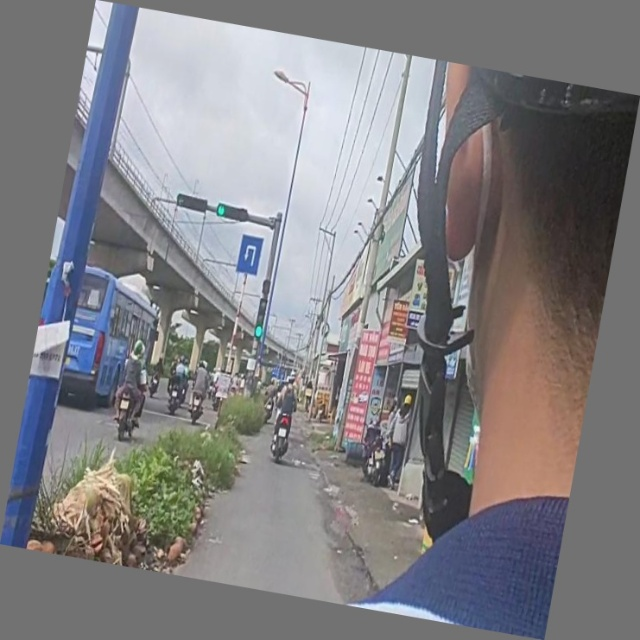I.409: (235, 232, 266, 278)
